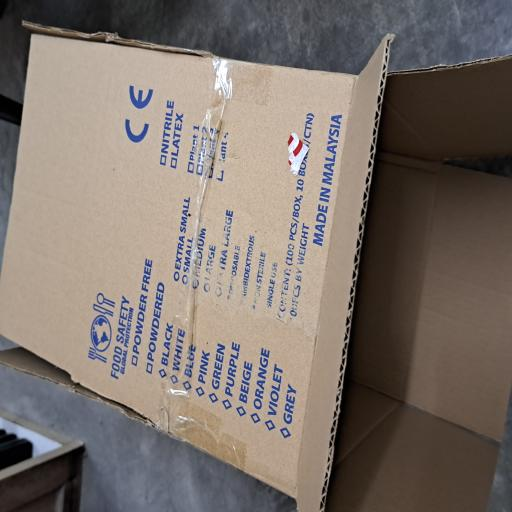cardboard: (0, 0, 359, 512)
